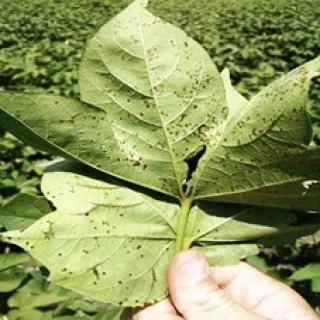blight: (24, 34, 320, 198), (8, 218, 166, 308)
